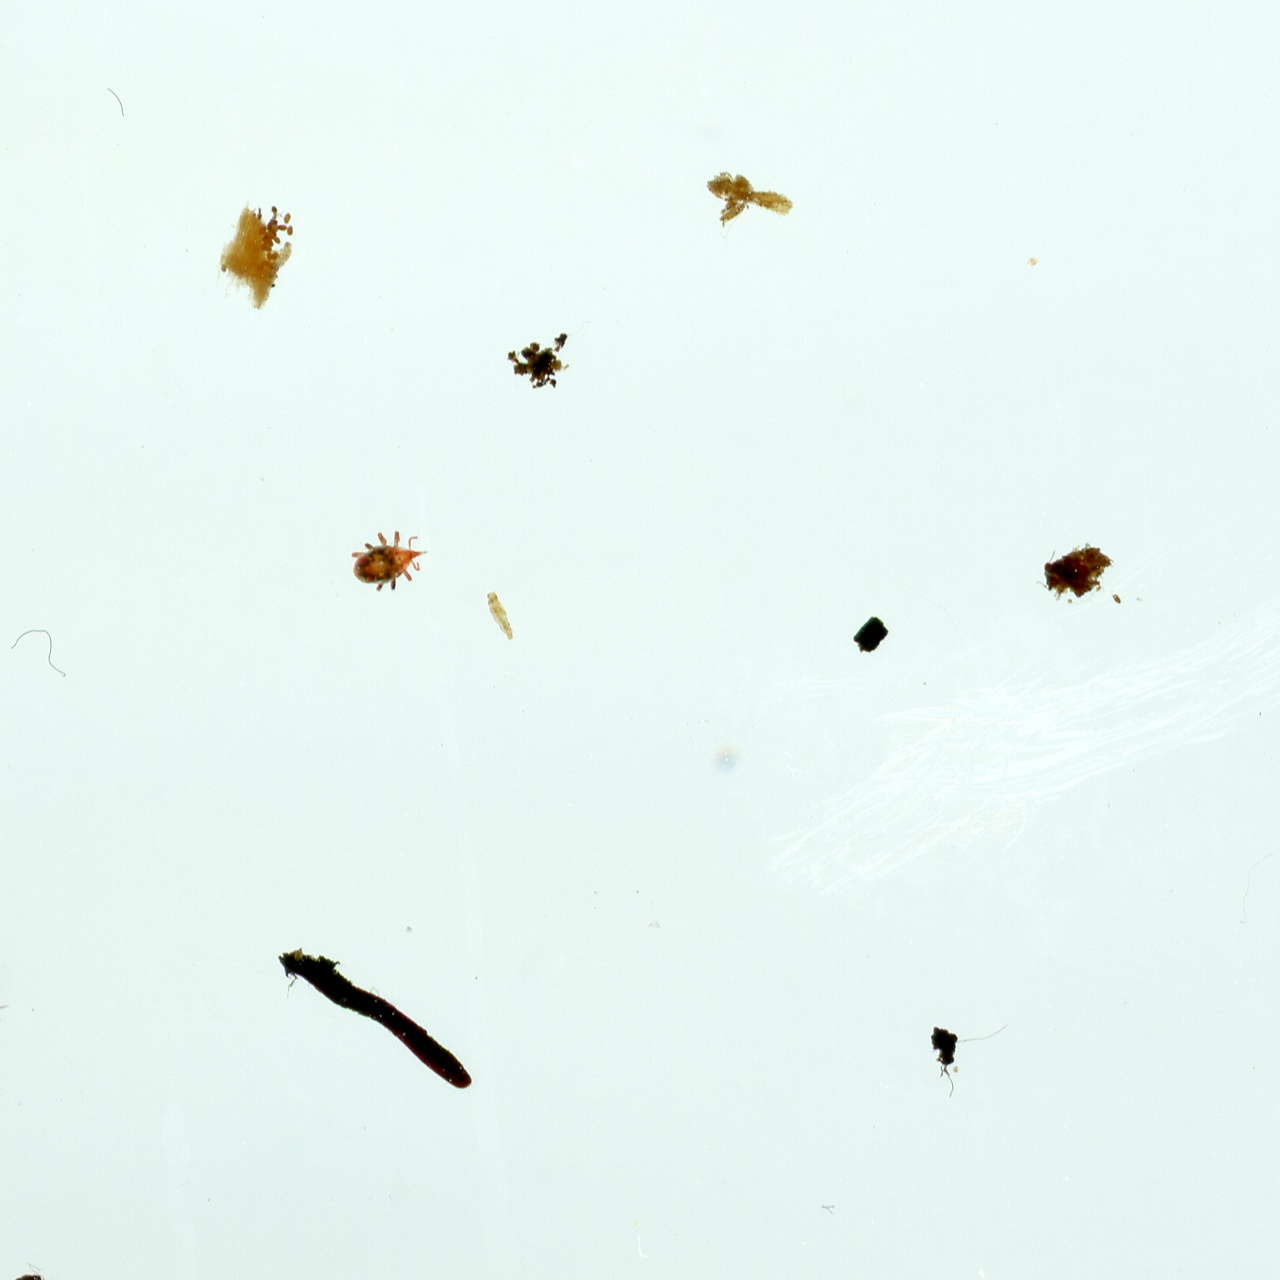arthropod: (342, 518, 434, 597), (0, 988, 14, 1027)
